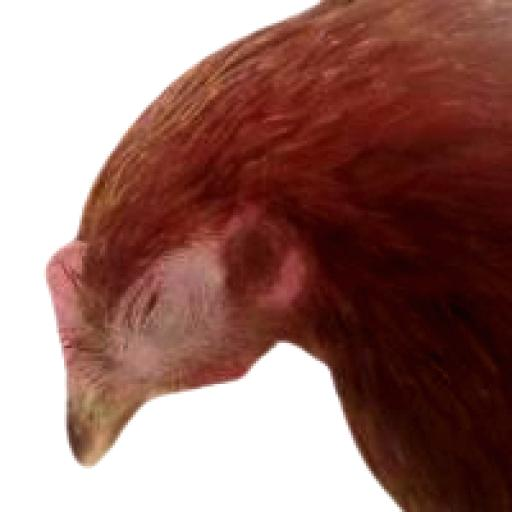disease: (110, 241, 220, 384)
